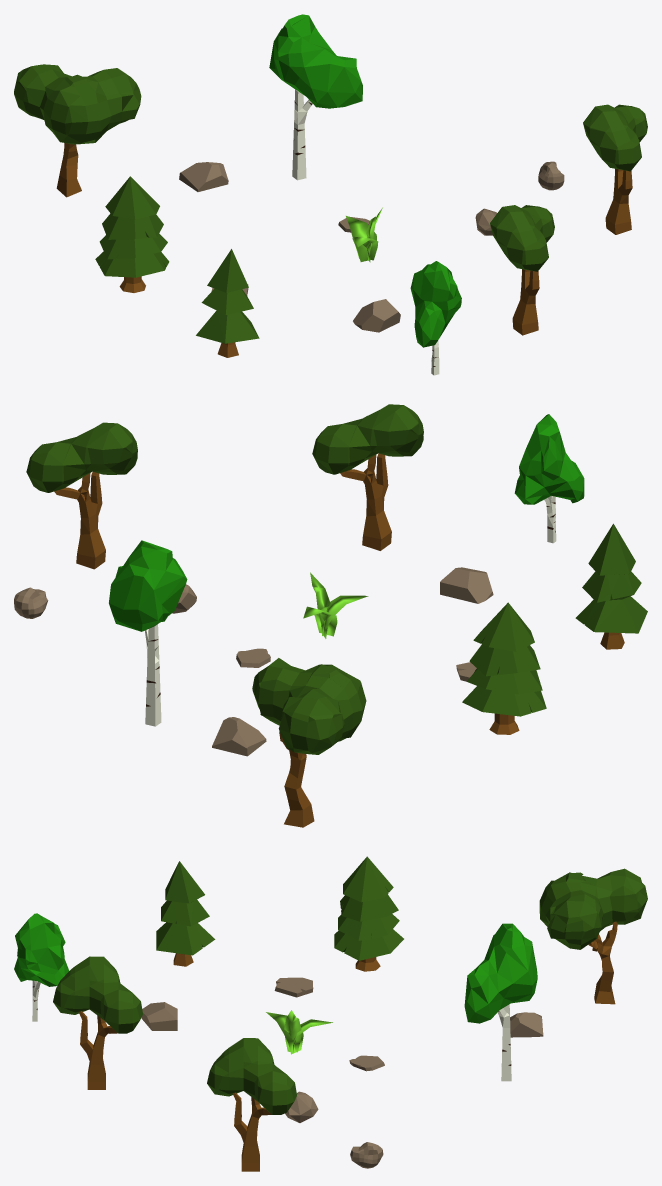
Rendered from TestMap.glb.
3 renders of one model, top to bottom at view 1: azimuth 30°, elevation 25°; view 2: azimuth 150°, elevation 25°; view 3: azimuth 270°, elevation 25°, orthographic. The views are drawn at different scales.
Visible parts, largest first — view 1: OakTree001, BirchTree001, PineTree002, OakTree002.001, OakTree002, PineTree001, BirchTree002, Rock001, Rock002, Shurb001, DecimateRock002; view 2: OakTree001, OakTree002, OakTree002.001, PineTree002, BirchTree001, PineTree001, BirchTree002, Rock002, Rock001, Shurb001, DecimateRock002; view 3: OakTree001, OakTree002, OakTree002.001, BirchTree001, PineTree002, PineTree001, BirchTree002, Shurb001, Rock002, Rock001, DecimateRock002, DecimateRock001 (+1 smaller).
Boxes of the visible parts, <box> form: OakTree001: <box>14,64,141,197</box>; BirchTree001: <box>269,14,362,180</box>; PineTree002: <box>95,176,169,292</box>; OakTree002.001: <box>490,205,554,335</box>; OakTree002: <box>583,104,647,234</box>; PineTree001: <box>196,249,259,357</box>; BirchTree002: <box>410,261,461,375</box>; Rock001: <box>179,162,228,191</box>; Rock002: <box>353,299,400,332</box>; Shurb001: <box>346,207,382,262</box>; DecimateRock002: <box>538,161,564,190</box>; OakTree001: <box>252,658,366,827</box>; OakTree002: <box>26,422,137,569</box>; OakTree002.001: <box>312,404,423,550</box>; PineTree002: <box>462,602,546,734</box>; BirchTree001: <box>109,540,187,726</box>; PineTree001: <box>575,523,647,649</box>; BirchTree002: <box>514,414,584,543</box>; Rock002: <box>440,567,493,603</box>; Rock001: <box>212,717,266,756</box>; Shurb001: <box>303,572,368,638</box>; DecimateRock002: <box>14,587,48,618</box>; OakTree001: <box>539,868,647,1004</box>; OakTree002: <box>207,1038,296,1171</box>; OakTree002.001: <box>53,956,142,1089</box>; BirchTree001: <box>464,923,537,1081</box>; PineTree002: <box>334,856,403,971</box>; PineTree001: <box>156,861,215,966</box>; BirchTree002: <box>14,913,69,1021</box>; Shurb001: <box>266,1010,332,1054</box>; Rock002: <box>141,1002,177,1030</box>; Rock001: <box>510,1012,543,1037</box>; DecimateRock002: <box>350,1142,383,1168</box>; DecimateRock001: <box>285,1091,318,1122</box>.
Size of what is drawn, in the model's own units: 15.35 by 4.92 by 17.48.
